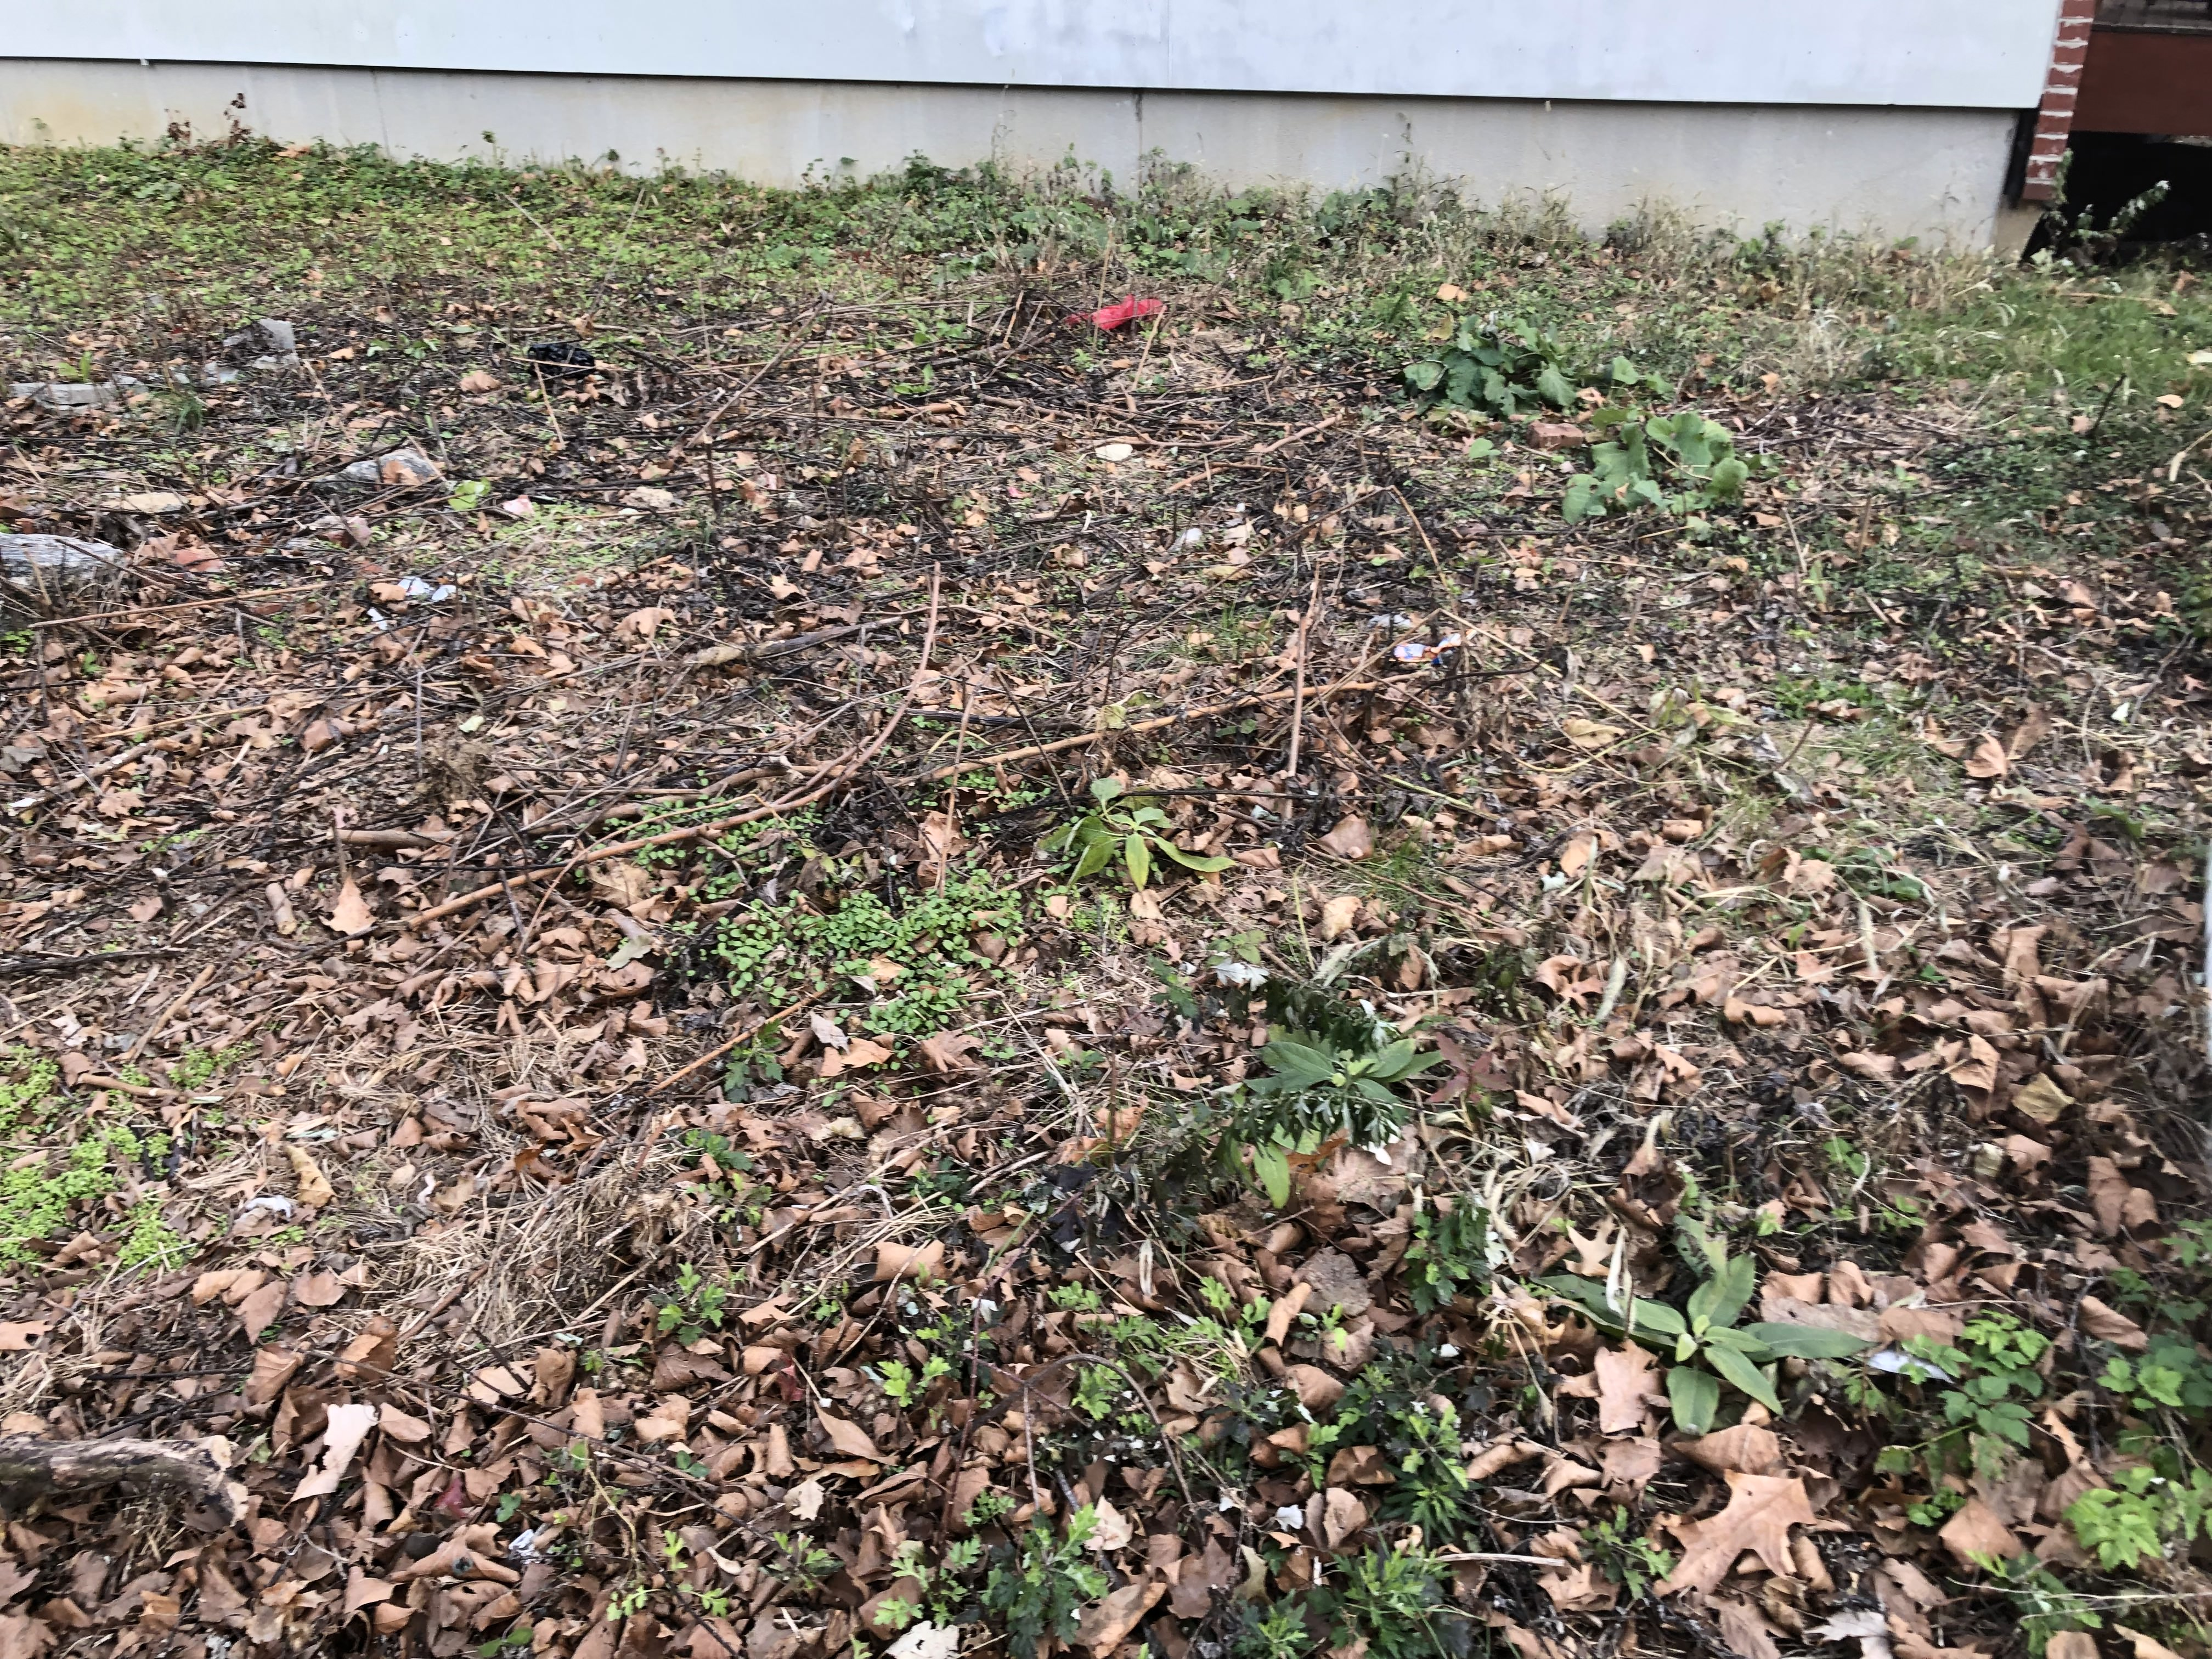good_lawn: (73, 288, 2174, 1541)
trash: (1066, 282, 1186, 342)
